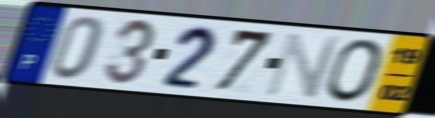0: (49, 14, 106, 82)
2: (154, 23, 221, 95)
3: (102, 17, 158, 88)
7: (210, 27, 277, 94)
N: (262, 31, 345, 99)
O: (324, 37, 387, 105)
